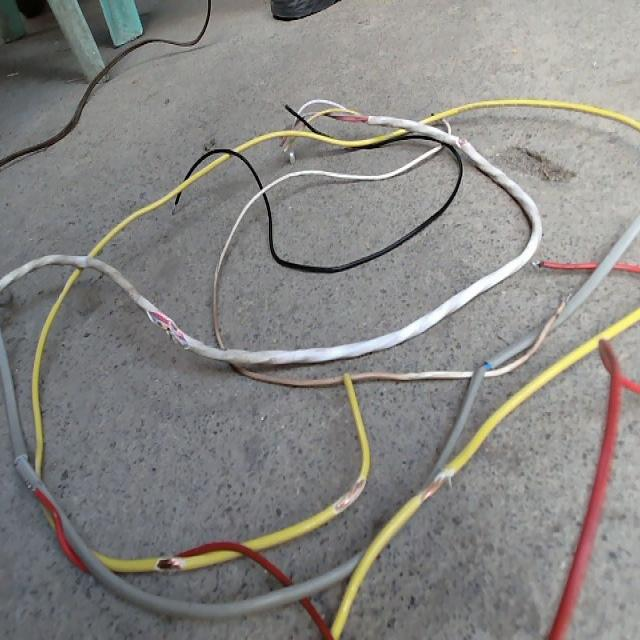-: (144, 305, 190, 351), (333, 474, 365, 506), (153, 552, 184, 573), (422, 472, 445, 499), (455, 132, 467, 148)
